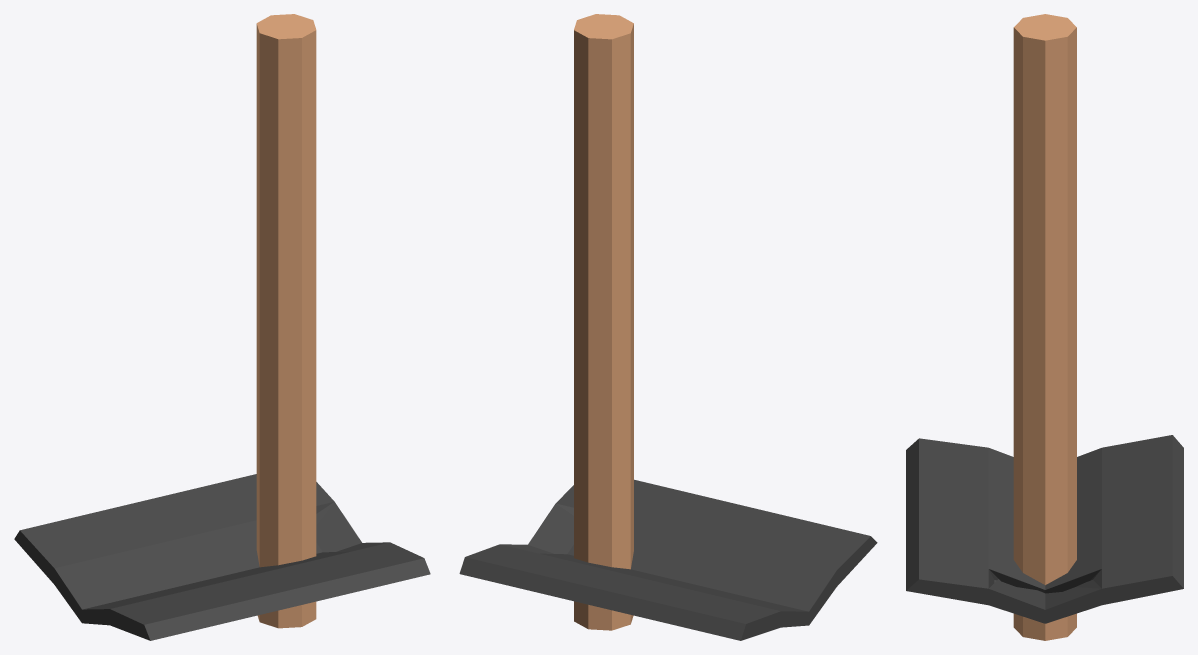
File: hoe.fbx
The picture shows the model from 3 angles, left to right: view 1: azimuth 30°, elevation 25°; view 2: azimuth 150°, elevation 25°; view 3: azimuth 270°, elevation 25°; orthographic projection.
Parts seen in each view (by area): view 1: Cylinder.001, Cylinder; view 2: Cylinder.001, Cylinder; view 3: Cylinder, Cylinder.001.
Boxes of the visible parts, box(x1,y1,x2,y2) form: Cylinder.001: box(14, 474, 430, 640); Cylinder: box(256, 14, 316, 628); Cylinder.001: box(459, 479, 877, 640); Cylinder: box(574, 14, 633, 630); Cylinder: box(1013, 14, 1076, 640); Cylinder.001: box(906, 435, 1183, 623).
Bounding box in the file's own units: 176 × 354 × 149.
